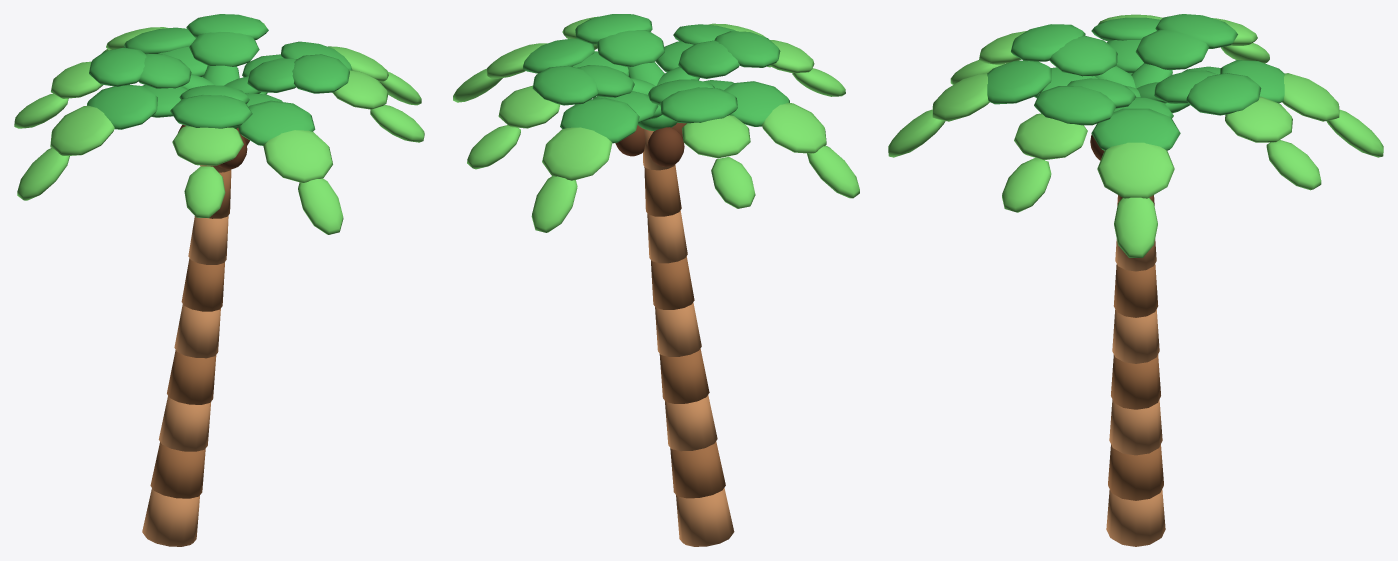
The model's file is PalmTree.fbx.
The picture shows the model from 3 angles, left to right: view 1: azimuth 30°, elevation 25°; view 2: azimuth 150°, elevation 25°; view 3: azimuth 270°, elevation 25°; orthographic projection. The views are drawn at different scales.
Parts seen in each view (by area): view 1: PalmTree; view 2: PalmTree; view 3: PalmTree.
Boxes of the visible parts, bbox=[...] form: PalmTree: bbox=[14, 14, 424, 546]; PalmTree: bbox=[453, 14, 859, 546]; PalmTree: bbox=[888, 14, 1383, 546].
Bounding box in the file's own units: 3.99 × 4.48 × 3.99.
